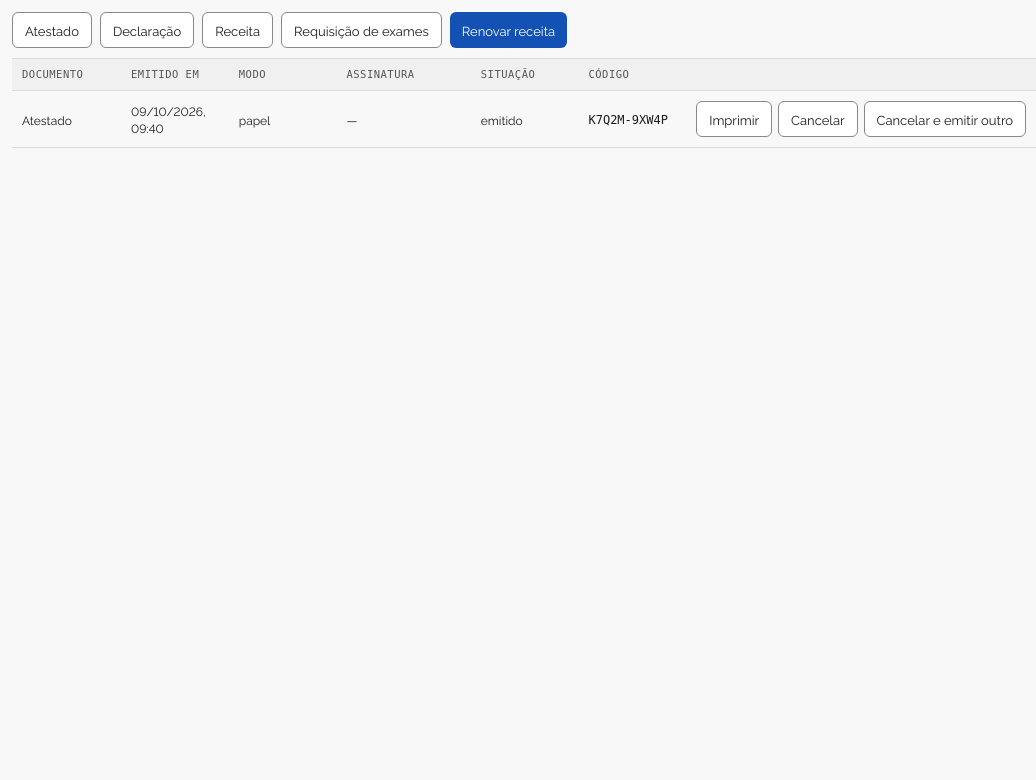
it: ConsultationDocuments › AT-06: trocar de documento com um aberto pergunta antes; Cancelar mantém
Click the button "Atestado".
click(52, 30)  # box [12,12,92,48]
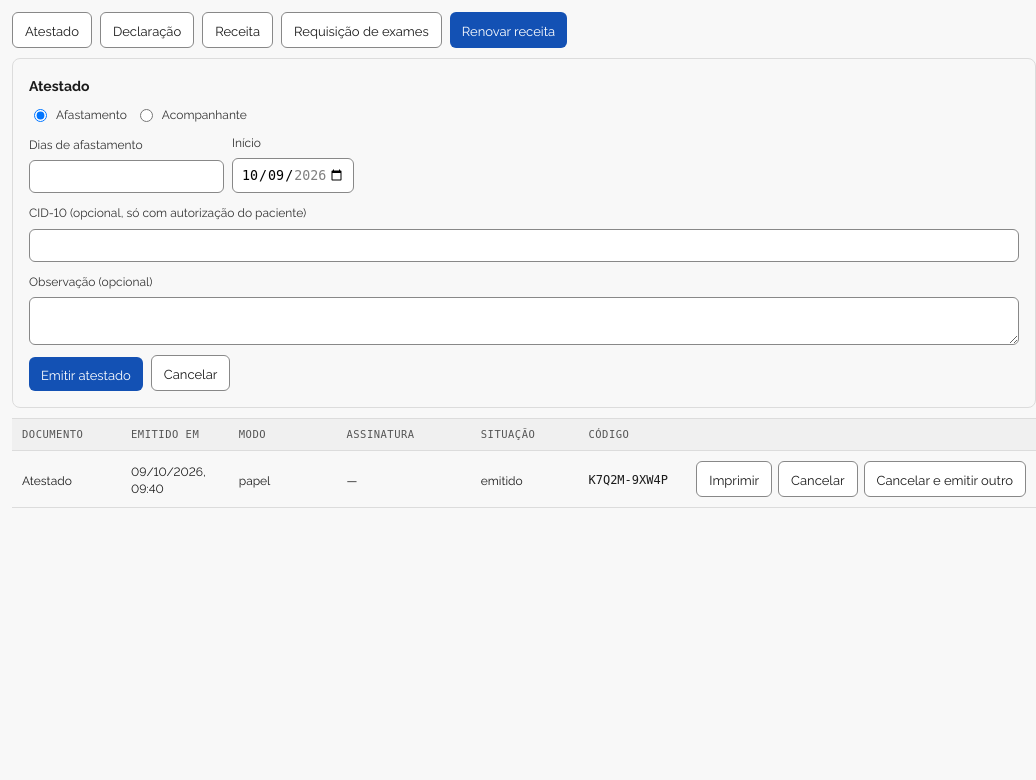
Type "3" into the field labelled "Dias de afastamento".
click(126, 177); type("3")  # box [29,160,224,193]
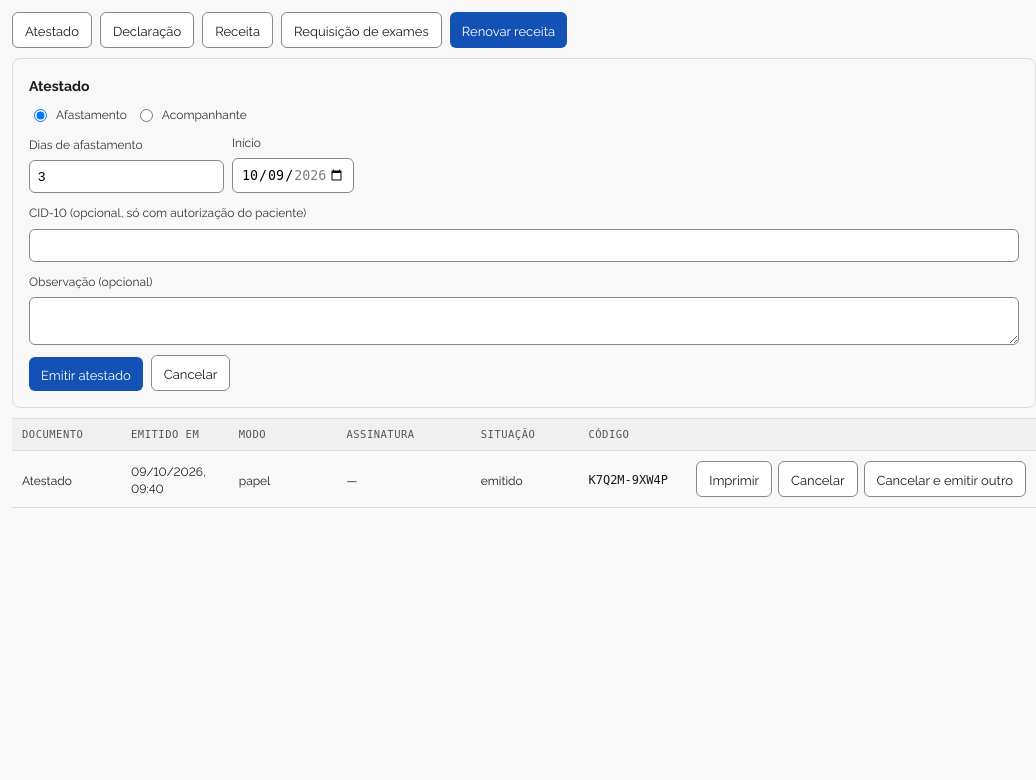
Click the button "Receita".
click(238, 30)  # box [202,12,273,48]
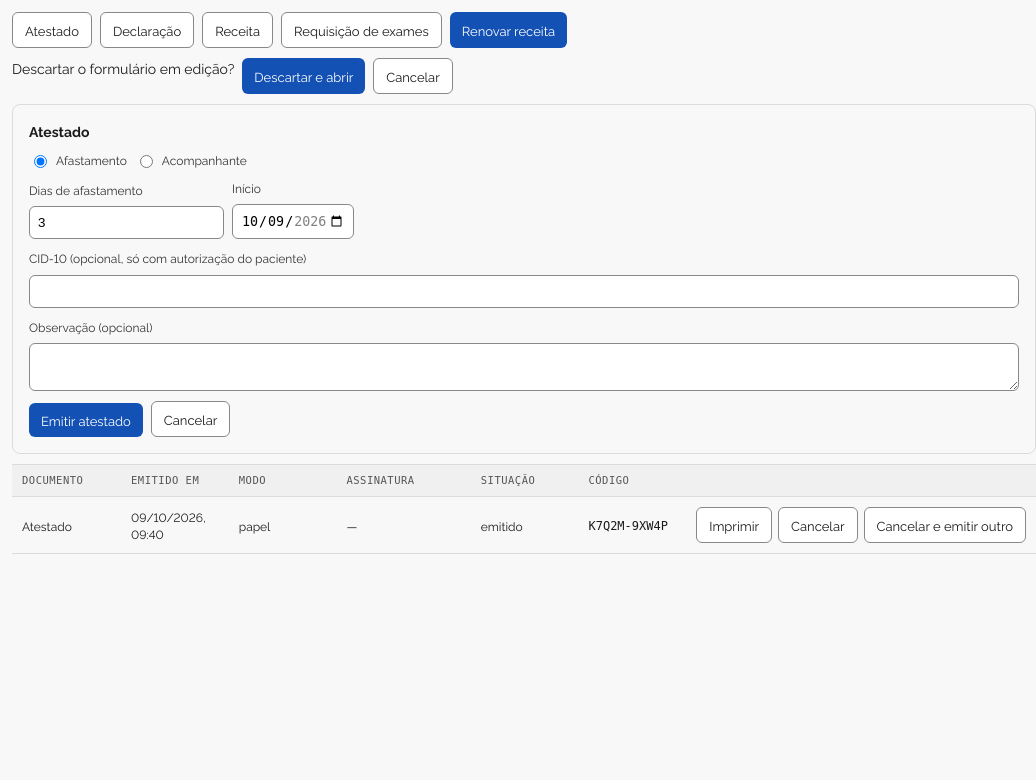
Click the button "Cancelar" in the row of "Descartar o formulário em edição?".
click(413, 76)  # box [373,58,453,94]
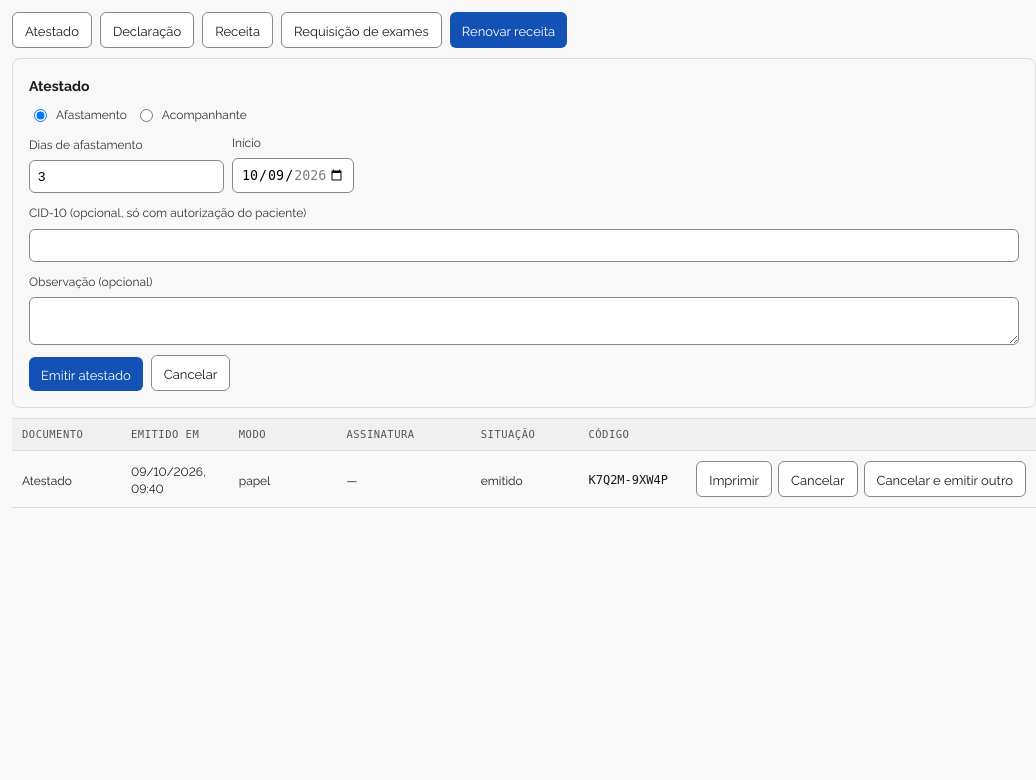
Click the button "Receita".
click(238, 30)  # box [202,12,273,48]
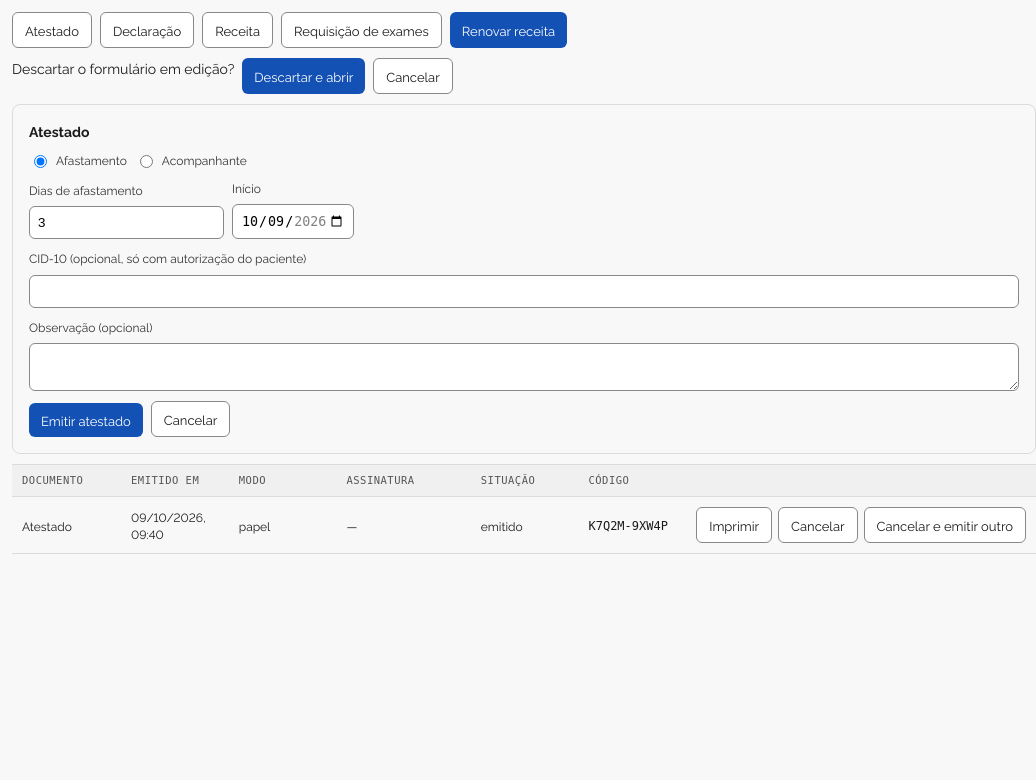
Click the button "Descartar e abrir".
click(304, 76)  # box [242,58,365,94]
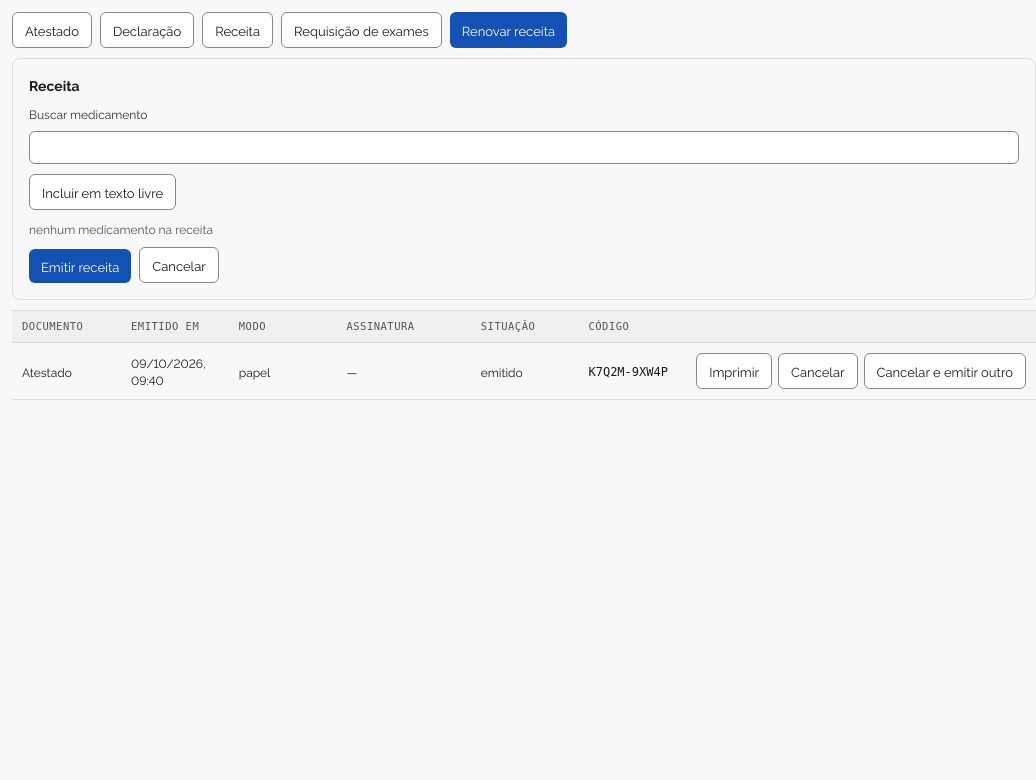
expect the label labelled "Dias de afastamento" is gone: met
